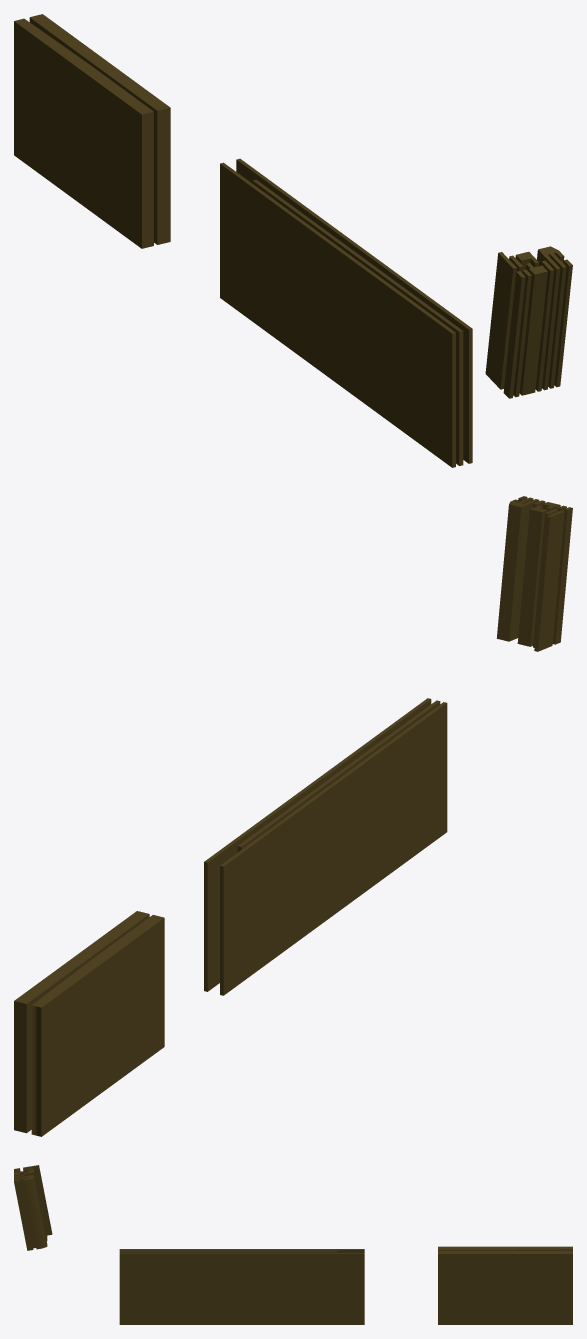
File: Har_shipon_text_.FBX
3 renders of one model, top to bottom at view 1: azimuth 30°, elevation 25°; view 2: azimuth 150°, elevation 25°; view 3: azimuth 270°, elevation 25°, orthographic. The views are drawn at different scales.
Visible parts, largest first — view 1: Text003; view 2: Text003; view 3: Text003.
Part boxes in pixels (left/top/right/bottom): Text003: left=14, top=14, right=572, bottom=467; Text003: left=14, top=496, right=572, bottom=1136; Text003: left=14, top=1165, right=572, bottom=1324.
Size of the model in its own units: 2.49 by 44.83 by 13.
